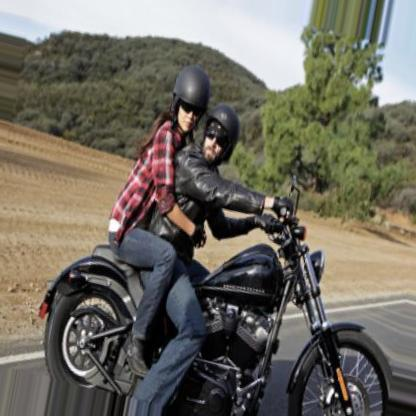with helmet: (166, 65, 210, 131), (200, 106, 239, 167)
